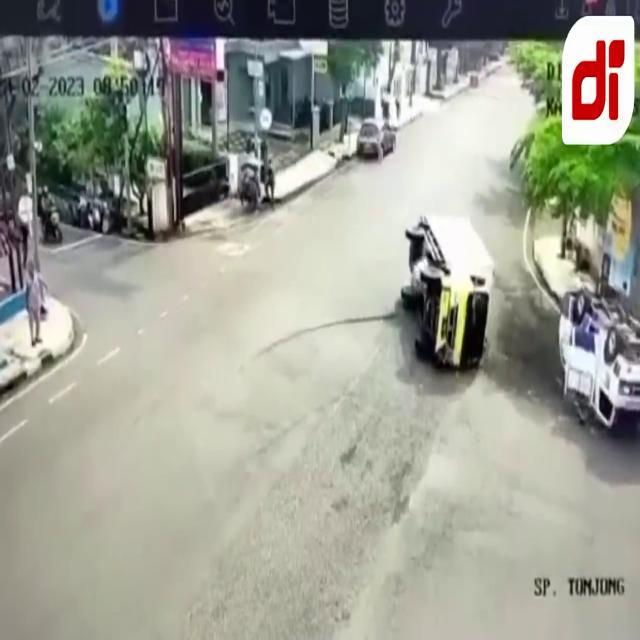single accident: (387, 211, 543, 406)
